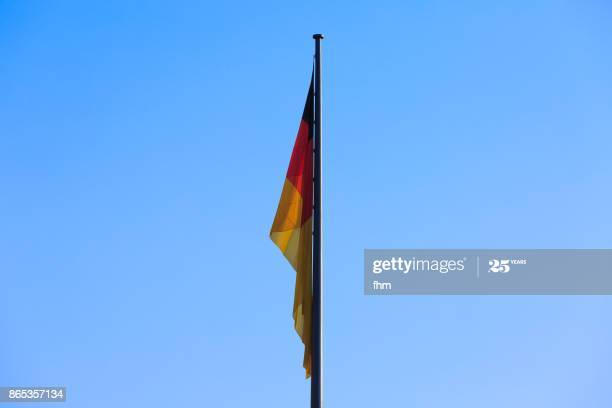Flag: (269, 54, 324, 383)
